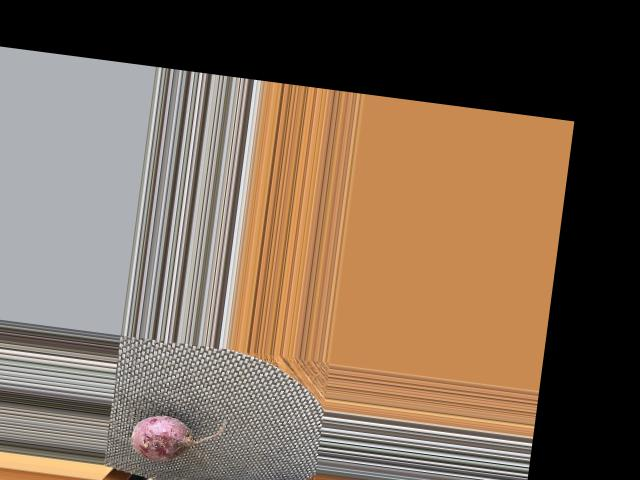beet: (129, 406, 226, 469)
